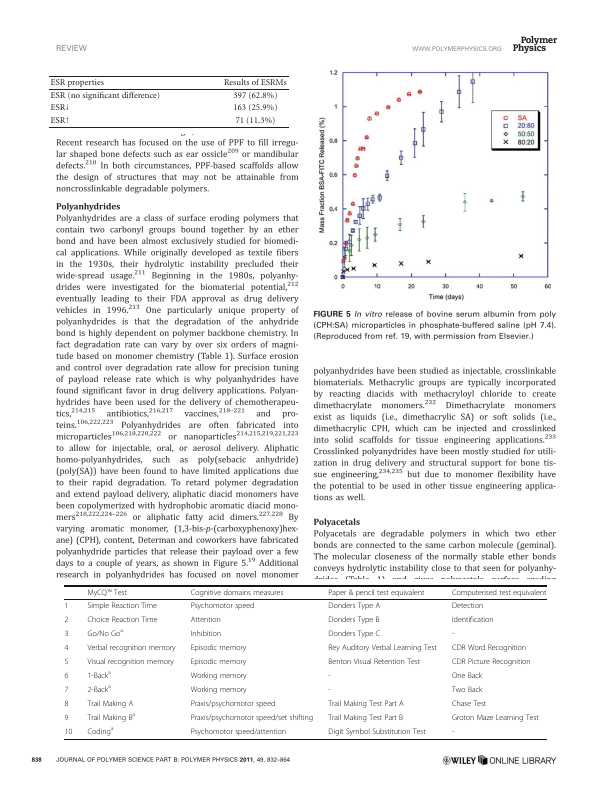borderless: (64, 584, 547, 739), (47, 74, 289, 127)
cell: (190, 713, 314, 723), (49, 91, 161, 101), (327, 643, 438, 653), (327, 727, 427, 737), (190, 727, 287, 737), (327, 657, 421, 667), (86, 643, 176, 653), (86, 657, 175, 667), (451, 713, 540, 723), (327, 588, 425, 597), (451, 588, 547, 597), (190, 699, 276, 709), (190, 588, 284, 597), (451, 657, 532, 667), (327, 699, 405, 709), (327, 713, 404, 723), (451, 643, 527, 653), (86, 601, 158, 611), (86, 615, 158, 625), (190, 601, 255, 611), (223, 78, 288, 88), (86, 711, 136, 723), (190, 671, 248, 681), (190, 685, 248, 695), (190, 643, 247, 653), (190, 657, 247, 667), (49, 78, 105, 88), (327, 601, 381, 611), (327, 629, 381, 639), (327, 615, 380, 625), (86, 699, 134, 709), (234, 115, 276, 126), (232, 91, 278, 101), (232, 103, 278, 113), (86, 627, 124, 639), (451, 615, 494, 625), (86, 588, 128, 597), (451, 699, 487, 709), (86, 725, 114, 737), (451, 601, 484, 611), (190, 615, 222, 625), (190, 629, 222, 639), (451, 671, 483, 681), (451, 685, 483, 695), (86, 669, 112, 681), (86, 683, 112, 695), (49, 115, 71, 126), (49, 103, 71, 113), (64, 727, 73, 737), (63, 601, 69, 611), (63, 615, 69, 625), (63, 629, 69, 639), (64, 643, 69, 653), (64, 657, 69, 667), (64, 671, 69, 681), (327, 671, 332, 681), (64, 685, 69, 695), (327, 685, 332, 695), (64, 699, 69, 709), (64, 713, 69, 723), (451, 629, 455, 639), (451, 727, 455, 737)
